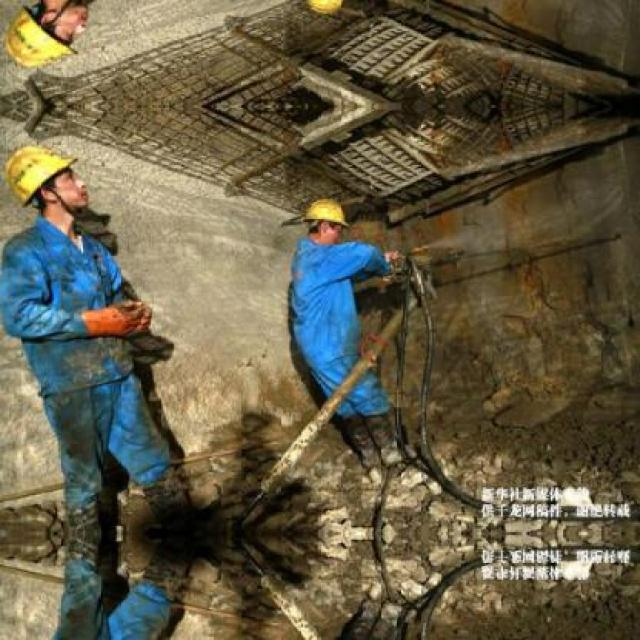helmet: (6, 146, 92, 223), (6, 0, 94, 68), (301, 196, 348, 244), (300, 0, 349, 17)
